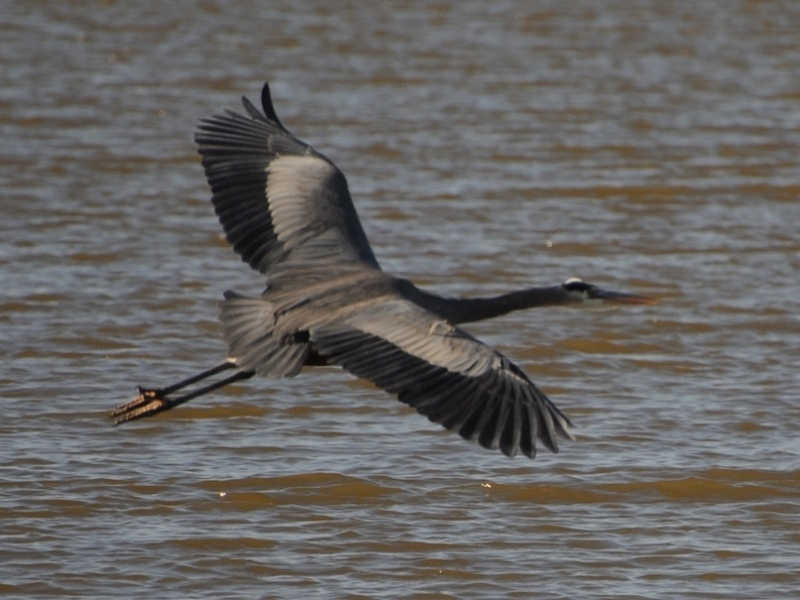heron: (102, 62, 663, 460)
